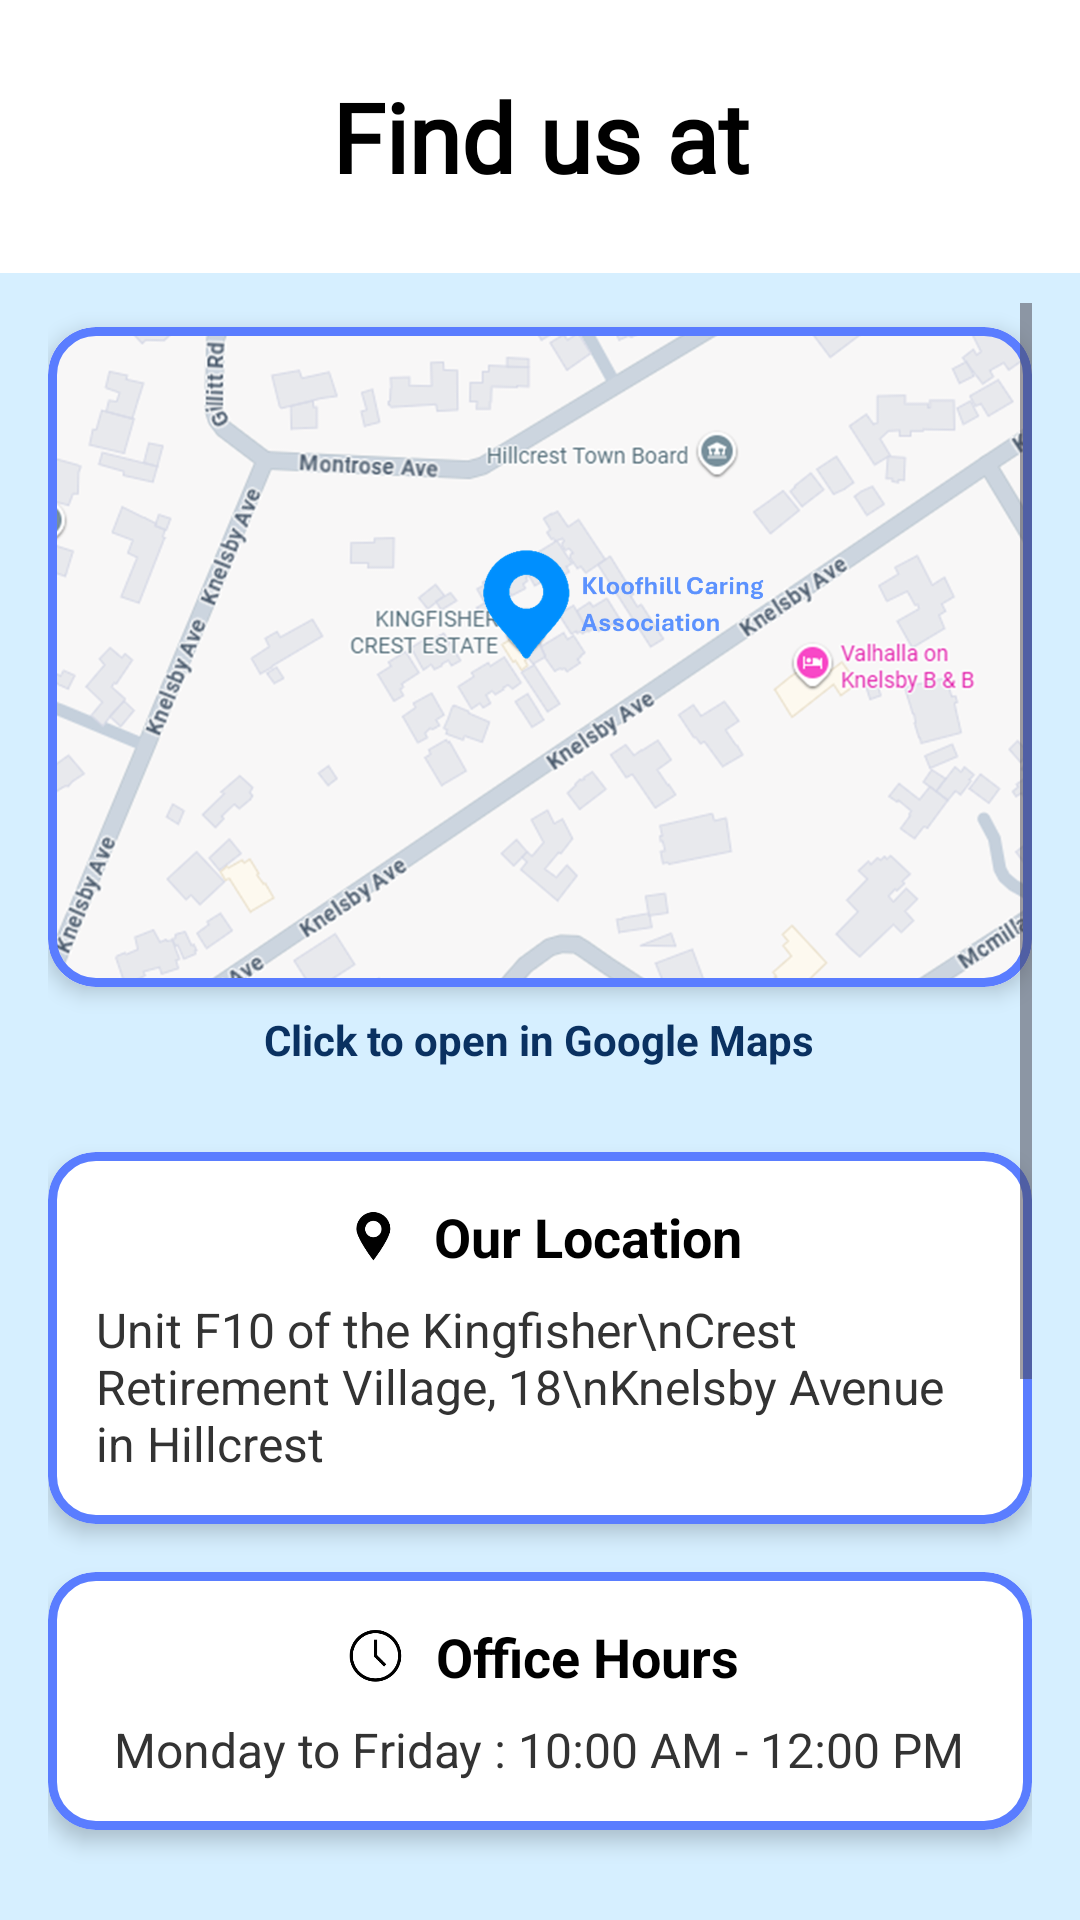

Icon bounding boxes for this 1080px x 1920px phone screenshot, format (x1, y1, x2, y2):
Time: (349, 1630, 402, 1682)
